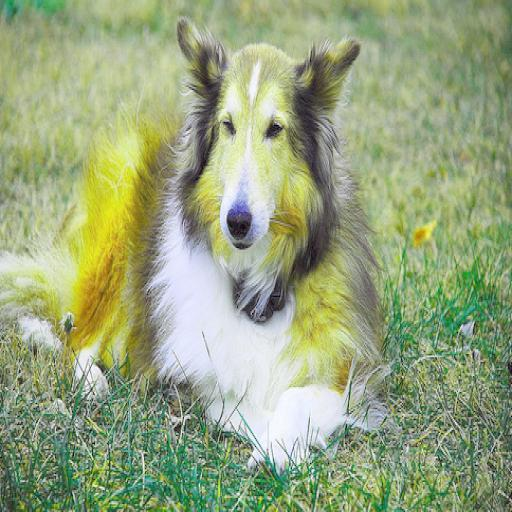dog_face: (170, 16, 352, 250)
